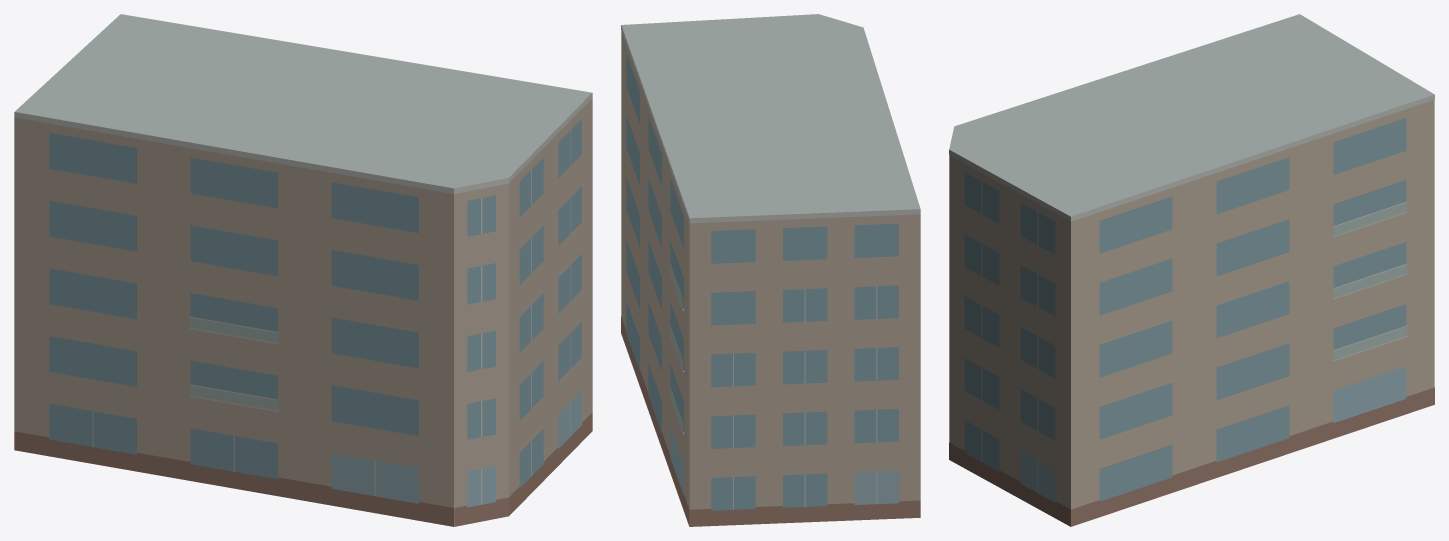
File: survey-upis-32999823.glb
3 views of the same model, side by side, from view 1: azimuth 30°, elevation 25°; view 2: azimuth 150°, elevation 25°; view 3: azimuth 270°, elevation 25° (orthographic). The views are drawn at different scales.
Parts seen in each view (by area): view 1: survey-upis-32999823.tmp; view 2: survey-upis-32999823.tmp; view 3: survey-upis-32999823.tmp.
Part boxes in pixels (left/top/right/bottom): survey-upis-32999823.tmp: left=14, top=14, right=592, bottom=526; survey-upis-32999823.tmp: left=621, top=14, right=920, bottom=526; survey-upis-32999823.tmp: left=949, top=14, right=1434, bottom=526.
Bounding box in the file's own units: 20.54 × 14.65 × 20.8.
